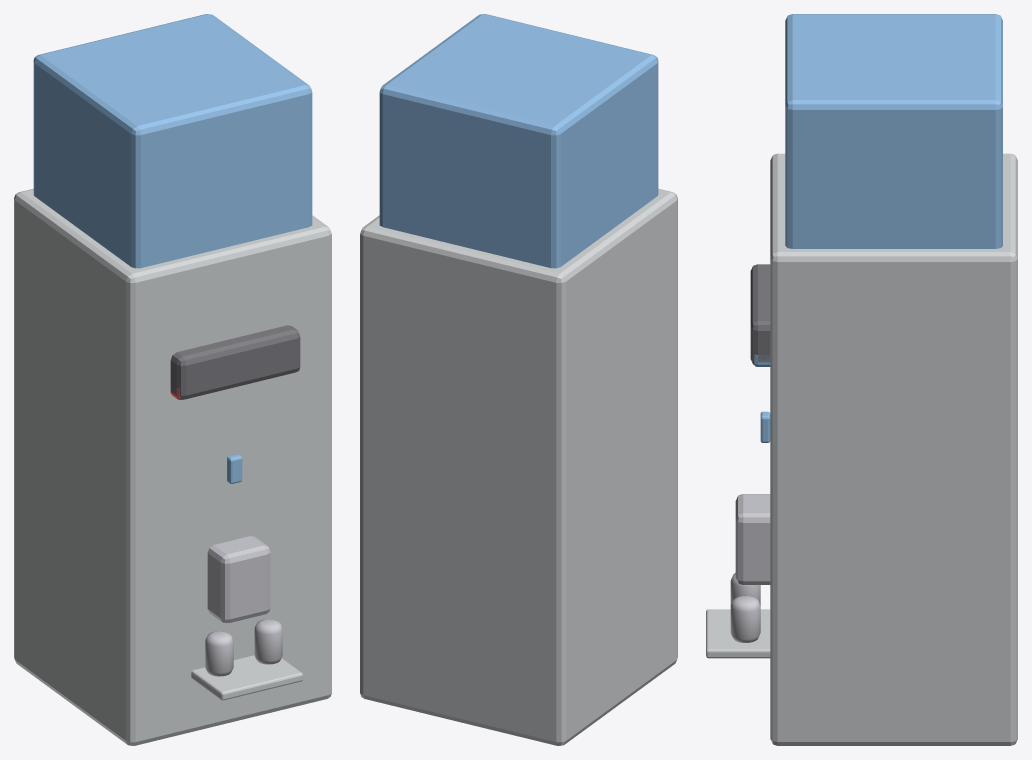
The model's file is кулер.glb.
3 renders of one model, left to right at view 1: azimuth 30°, elevation 25°; view 2: azimuth 150°, elevation 25°; view 3: azimuth 270°, elevation 25°, orthographic. The views are drawn at different scales.
Visible parts, largest first — view 1: кулер; view 2: кулер; view 3: кулер.
Part boxes in pixels (x1,y1,x2,y2): кулер: (14,14,331,745); кулер: (360,14,677,745); кулер: (706,14,1017,745).
Bounding box in the file's own units: 0.5 × 1.42 × 0.63.
